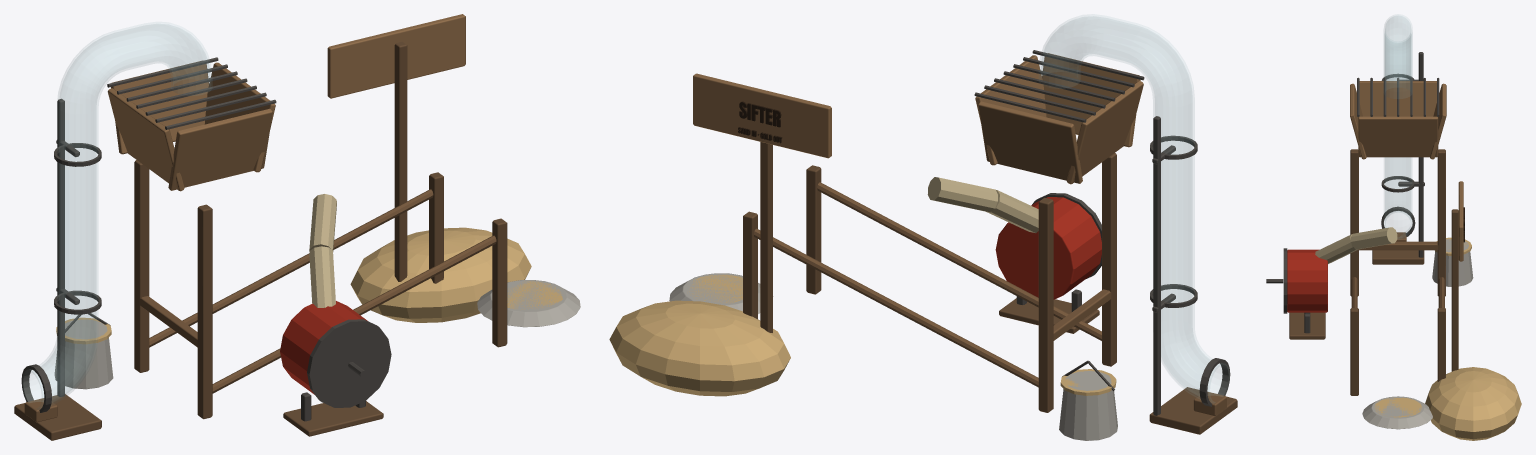
Rendered from Sifter.glb.
3 renders of one model, left to right at view 1: azimuth 30°, elevation 25°; view 2: azimuth 150°, elevation 25°; view 3: azimuth 270°, elevation 25°, orthographic. The views are drawn at different scales.
Parts seen in each view (by area): view 1: Sifter; view 2: Sifter; view 3: Sifter.
Boxes of the visible parts, left/top/right/bottom form: Sifter: left=14, top=14, right=580, bottom=440; Sifter: left=609, top=14, right=1237, bottom=440; Sifter: left=1266, top=14, right=1521, bottom=440.
Size of the model in its own units: 3.62 by 2.58 by 2.11.
